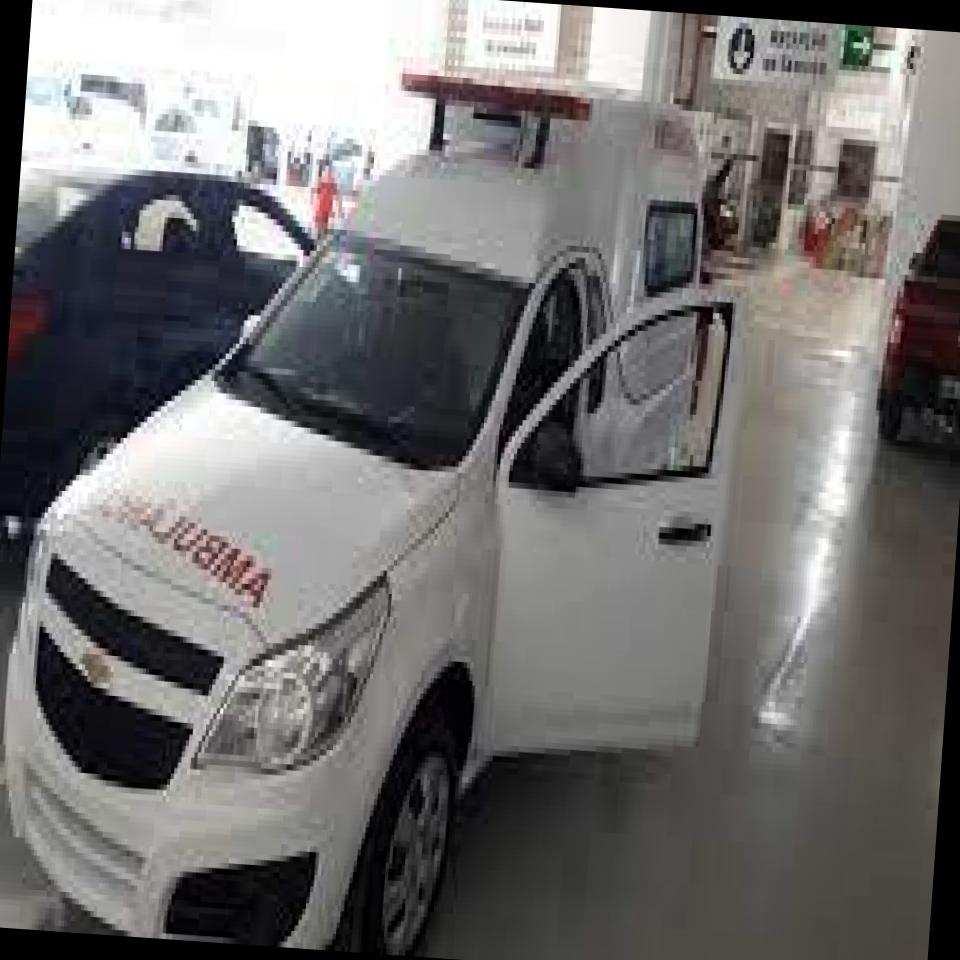bombeiro: (0, 48, 754, 960)
